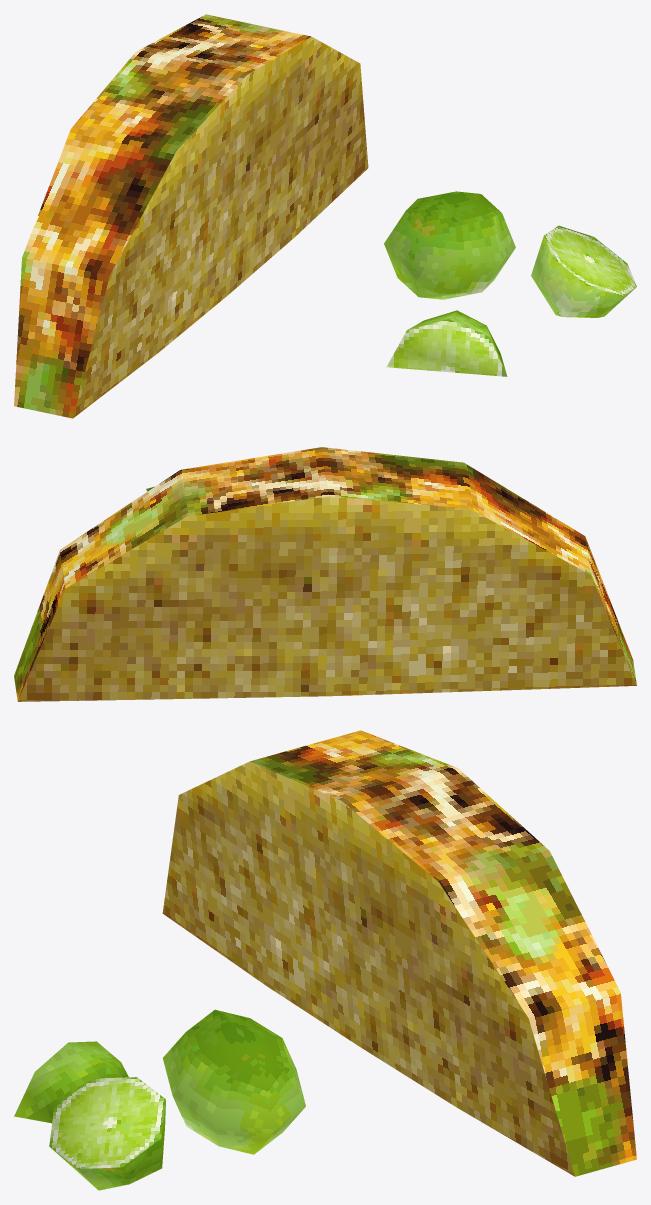
Rendered from taco_psx.glb.
The picture shows the model from 3 angles, top to bottom: view 1: azimuth 30°, elevation 25°; view 2: azimuth 150°, elevation 25°; view 3: azimuth 270°, elevation 25°; orthographic projection. The views are drawn at different scales.
Parts seen in each view (by area): view 1: Taco, Lemon, HalfLemon, QuarterLemon; view 2: Taco; view 3: Taco, Lemon, HalfLemon, QuarterLemon.
Boxes of the visible parts, box(x1,y1,x2,y2) form: Taco: box(14, 14, 368, 418); Lemon: box(384, 191, 515, 299); HalfLemon: box(531, 225, 636, 317); QuarterLemon: box(386, 310, 507, 376); Taco: box(14, 447, 636, 701); Taco: box(162, 730, 636, 1176); Lemon: box(163, 1009, 305, 1154); HalfLemon: box(49, 1077, 165, 1190); QuarterLemon: box(14, 1041, 128, 1123).
Bounding box in the file's own units: 0.2657 × 0.0998 × 0.2236.
1 material, 1 textured.
